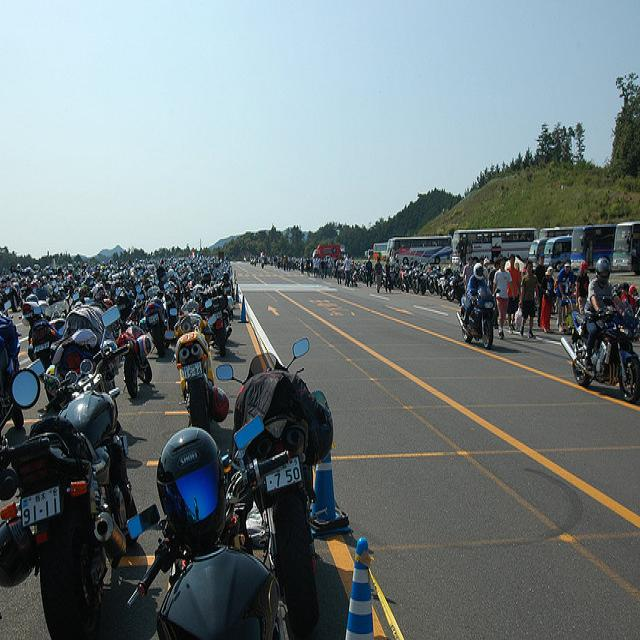motor: (0, 249, 639, 368), (2, 298, 140, 632), (125, 405, 292, 612), (217, 337, 318, 639), (563, 293, 640, 399), (174, 299, 213, 436), (456, 285, 500, 351), (120, 325, 151, 399), (207, 294, 234, 358), (143, 293, 166, 358), (436, 266, 458, 301), (193, 285, 220, 305), (221, 270, 232, 298), (412, 270, 420, 297)
